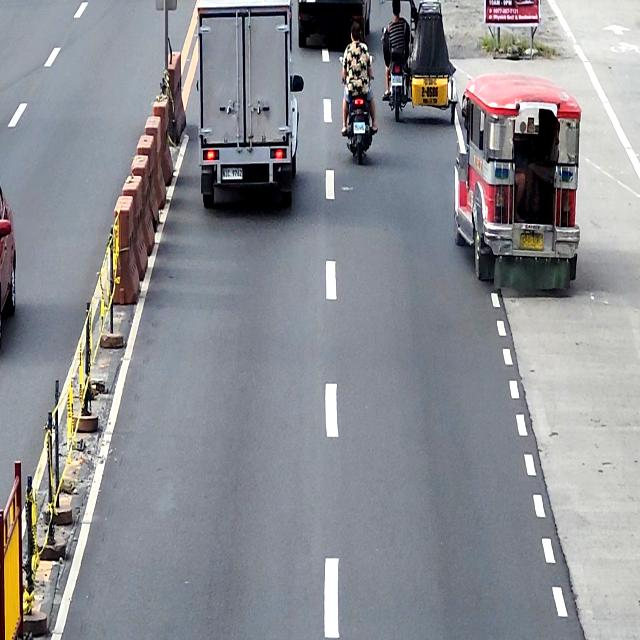Car: (297, 0, 372, 51), (0, 185, 16, 352)
Jeep: (453, 71, 582, 295)
License-Plate: (519, 230, 546, 250), (220, 166, 243, 181), (391, 75, 403, 87), (353, 122, 366, 133)
Motorcycle: (339, 53, 377, 163)
Tricycle: (381, 0, 458, 124)
Truck: (196, 0, 305, 212)
